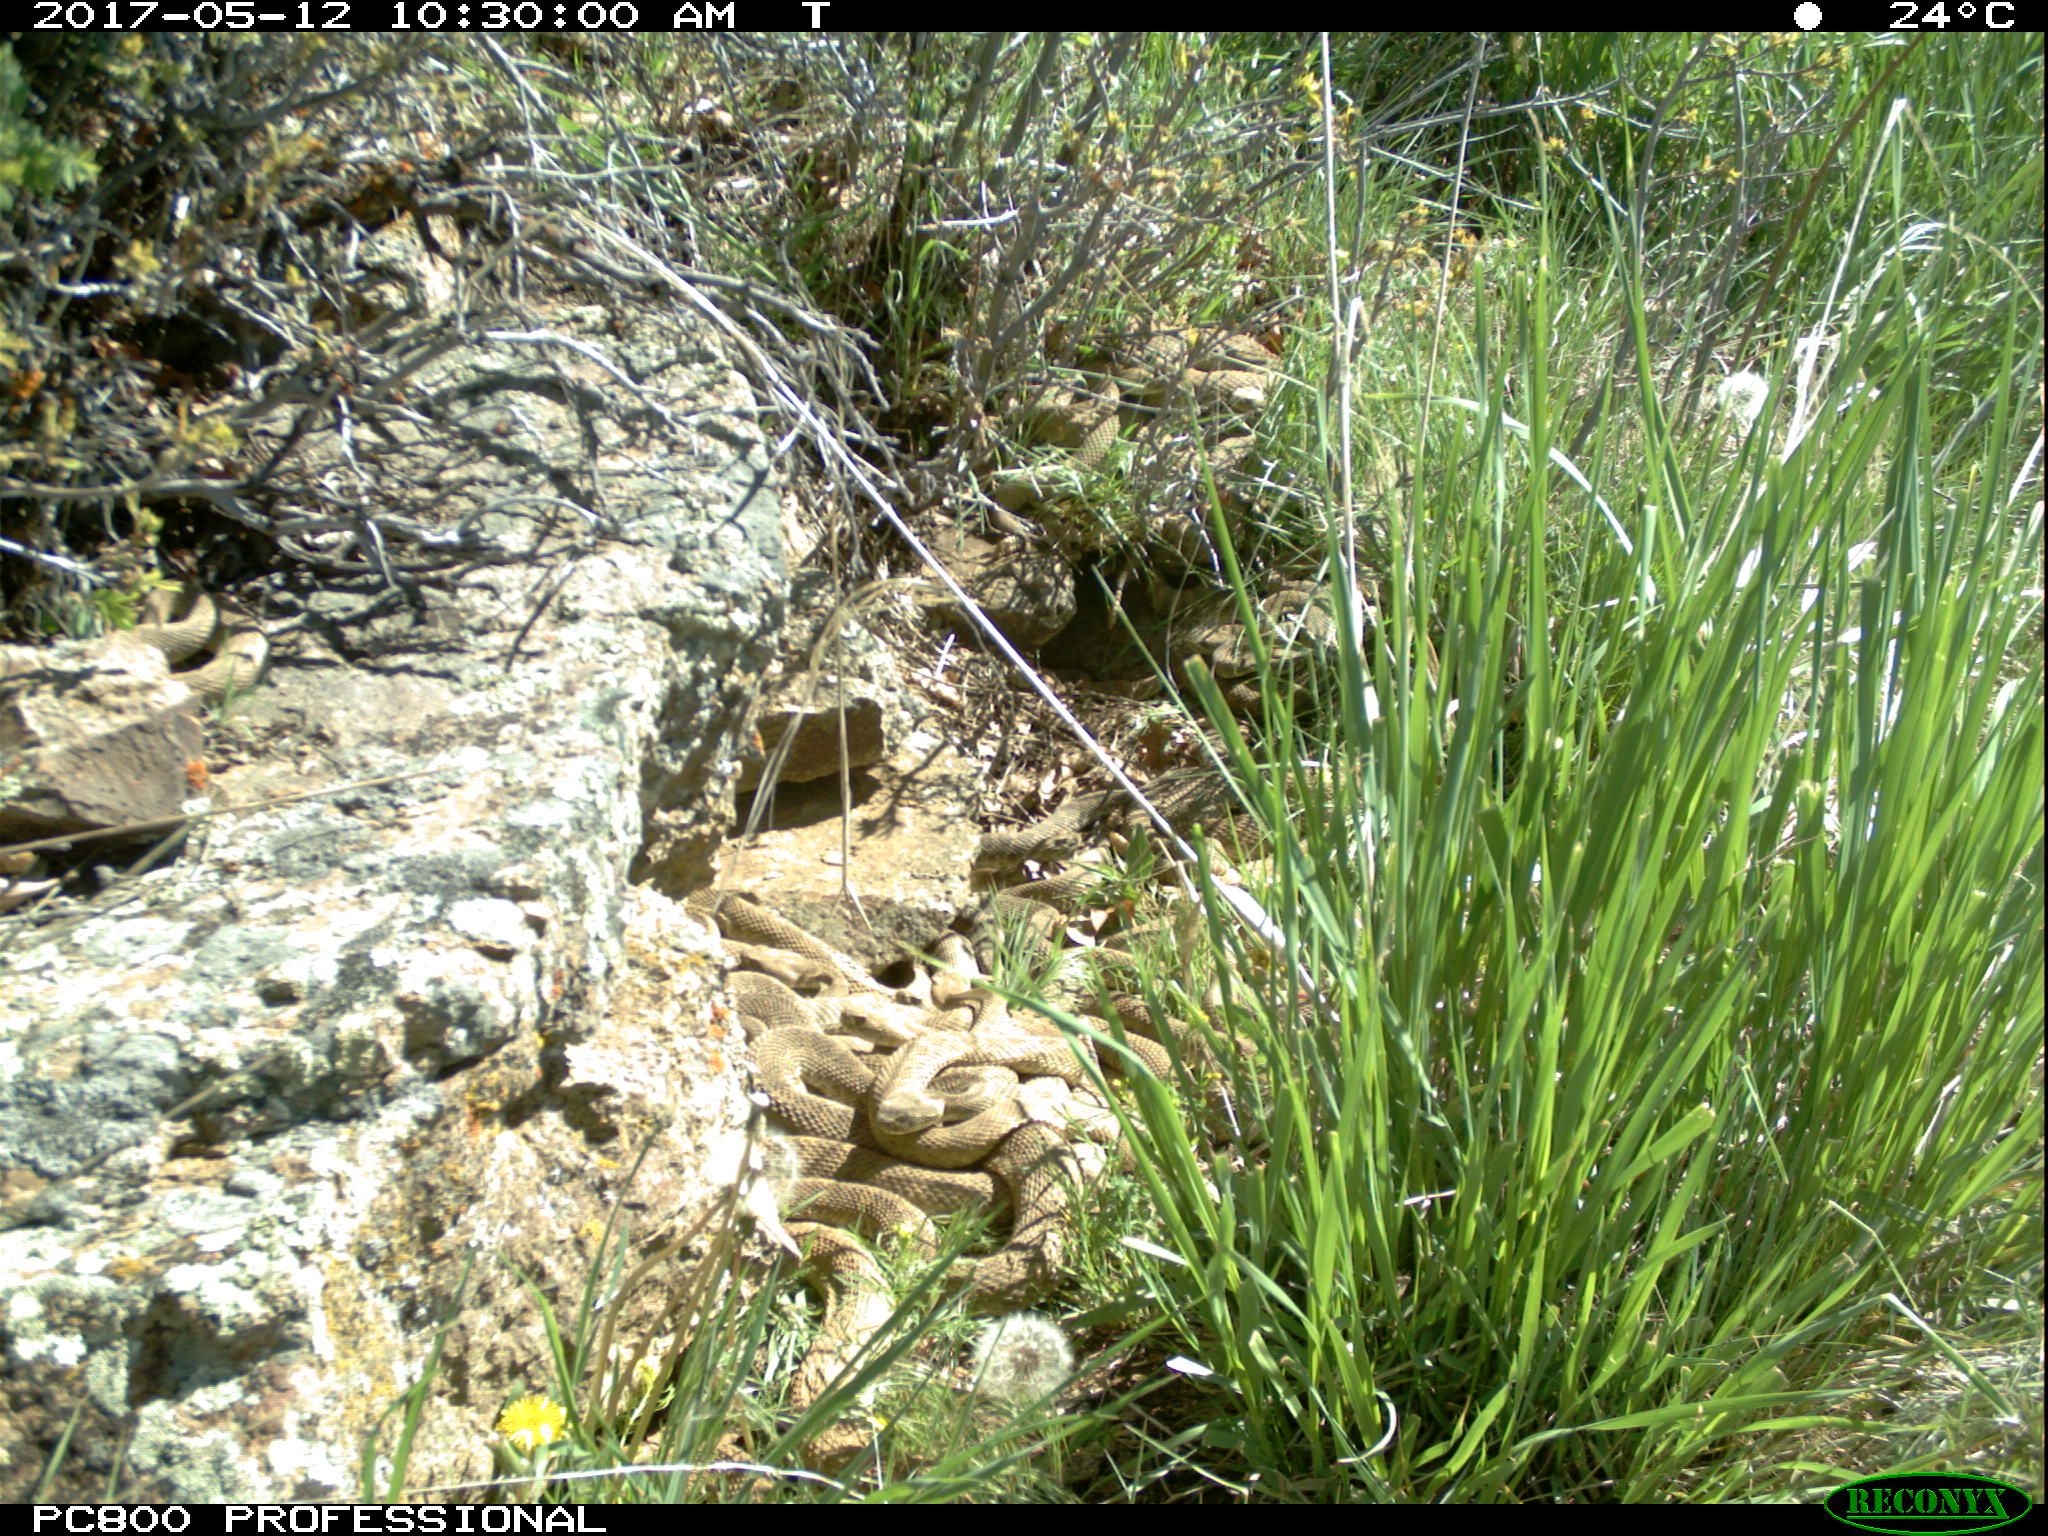snake: (739, 1029, 1092, 1170), (768, 1129, 1087, 1265), (1047, 955, 1284, 1108), (785, 1239, 910, 1478), (943, 1117, 1082, 1312), (971, 787, 1276, 876), (695, 891, 856, 1029), (124, 576, 271, 692), (1221, 565, 1358, 674), (1132, 324, 1293, 408), (1019, 366, 1126, 473)
